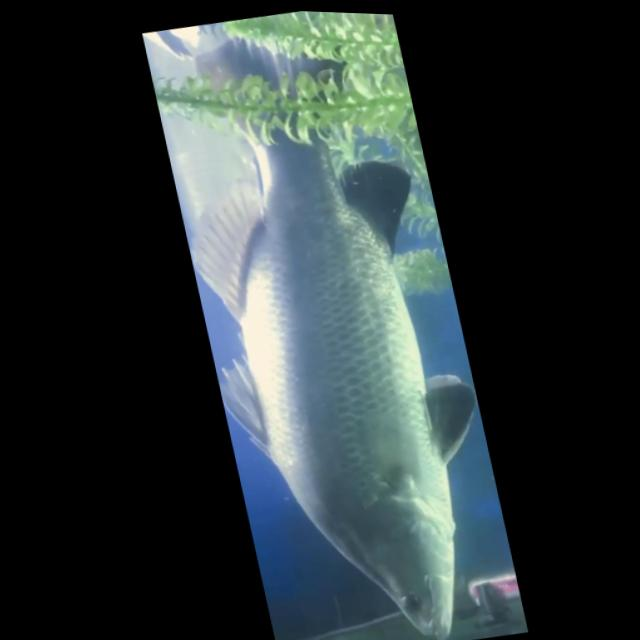Seabass: (142, 5, 525, 640)
